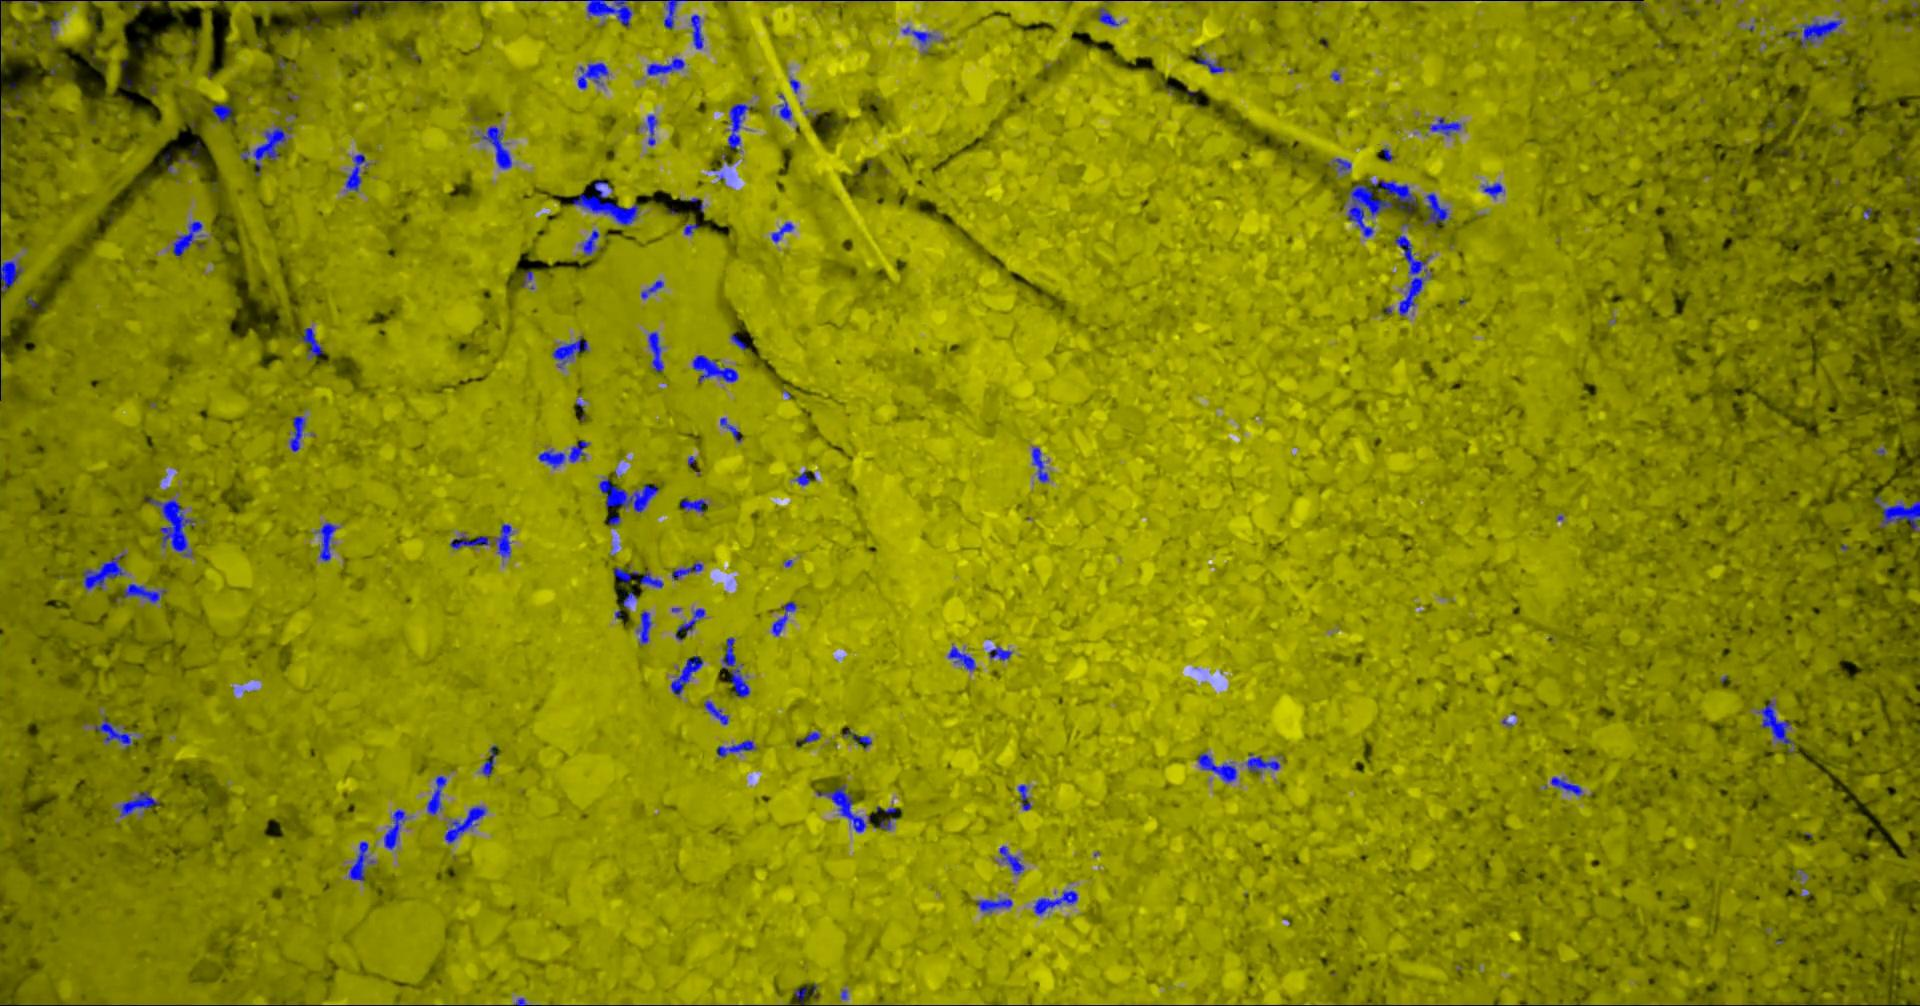ant: (1394, 235, 1432, 315), (571, 180, 637, 225), (147, 498, 196, 556), (815, 784, 870, 832), (239, 124, 290, 175), (1347, 183, 1393, 236), (598, 478, 658, 512), (1757, 700, 1796, 752), (1370, 179, 1417, 217), (721, 636, 749, 697), (1873, 495, 1919, 531), (444, 805, 486, 843), (83, 553, 124, 589), (537, 439, 589, 467), (93, 715, 133, 748), (726, 103, 756, 149), (480, 126, 510, 169), (670, 655, 703, 695), (691, 354, 737, 382), (584, 0, 631, 27), (1799, 19, 1841, 48), (1196, 752, 1236, 782), (171, 220, 203, 257), (342, 0, 433, 13), (551, 335, 587, 367), (348, 841, 375, 882), (1032, 890, 1077, 915), (119, 790, 159, 815), (676, 607, 703, 640), (121, 583, 166, 602), (771, 601, 796, 635), (315, 522, 337, 561), (383, 809, 405, 848), (345, 152, 367, 191), (0, 260, 22, 298), (577, 62, 608, 88), (425, 775, 446, 814), (1423, 192, 1448, 225), (298, 326, 323, 357), (947, 645, 975, 671), (999, 845, 1023, 874), (716, 739, 756, 757), (1244, 753, 1279, 774), (1195, 53, 1230, 72), (646, 57, 684, 75), (663, 0, 686, 28), (902, 25, 935, 44), (494, 523, 512, 558), (1550, 776, 1582, 795), (648, 332, 663, 371), (1429, 117, 1462, 135), (1031, 446, 1048, 481), (703, 700, 728, 724), (719, 417, 742, 442), (670, 561, 702, 579), (450, 533, 489, 547), (635, 610, 651, 643), (290, 415, 305, 451), (843, 729, 871, 748), (480, 746, 497, 776), (977, 898, 1012, 912), (211, 103, 235, 123), (690, 14, 703, 48), (582, 229, 598, 255), (771, 222, 792, 243), (640, 279, 663, 298), (879, 807, 897, 829), (795, 730, 819, 747), (1481, 182, 1503, 198), (0, 97, 9, 138), (1017, 784, 1031, 810), (613, 567, 637, 582), (639, 572, 663, 587), (1097, 8, 1117, 25), (645, 114, 657, 145), (988, 645, 1011, 661), (778, 93, 791, 119), (681, 498, 707, 511), (794, 470, 815, 485), (117, 0, 159, 8), (730, 333, 745, 349), (1333, 158, 1351, 171), (794, 986, 806, 1005), (50, 19, 58, 39), (683, 224, 698, 234)
